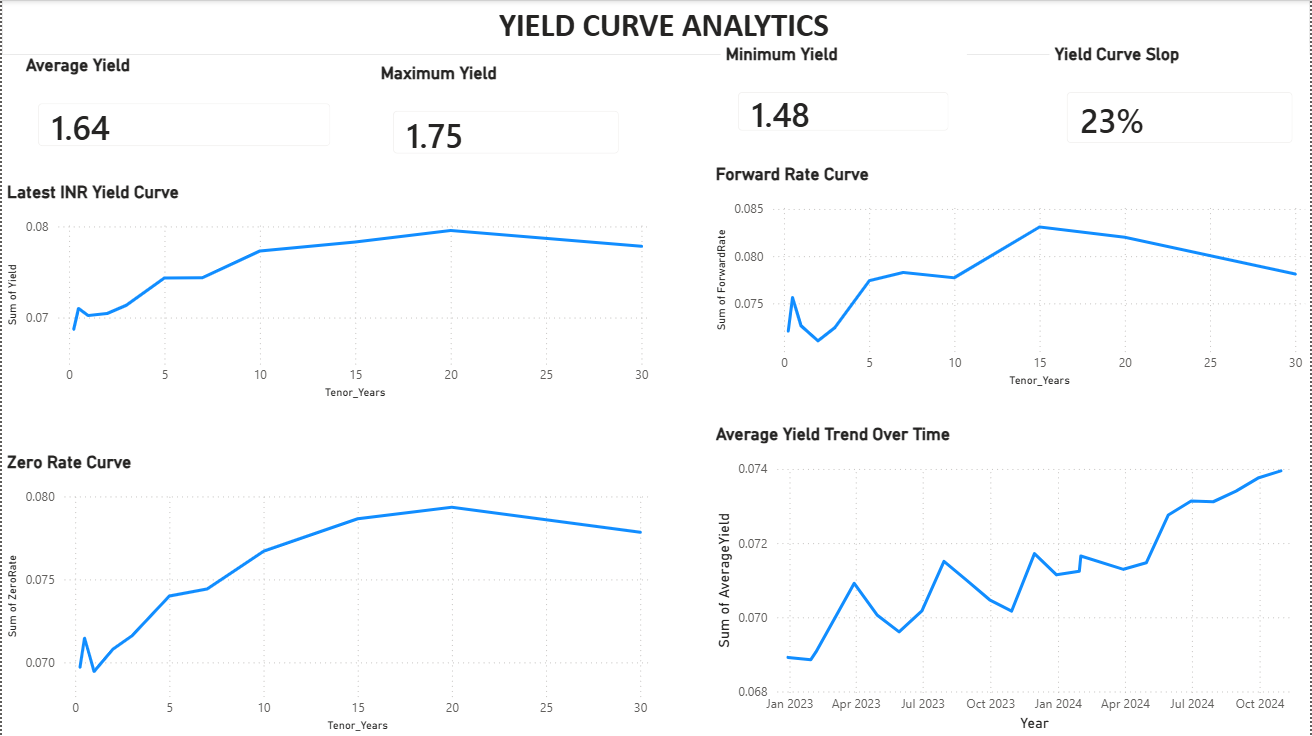

The page's visual inventory and layout, read from the dashboard file:
{"tool":"powerbi","page":{"name":"Yield Curve Analytics","canvas":[1280,720],"ordinal":3},"visuals":[{"type":"textbox","box":[0,0,1280.3,53.8],"z":0},{"type":"lineChart","title":"Latest INR Yield Curve","fields":{"Category":["latest_yield_curve.Tenor_Years"],"Y":["Sum(latest_yield_curve.Yield)"]},"box":[0,177.3,640.8,217.7],"z":1000},{"type":"lineChart","title":"Zero Rate Curve","fields":{"Category":["latest_yield_curve.Tenor_Years"],"Y":["Sum(latest_yield_curve.ZeroRate)"]},"box":[0,441.4,639.5,278.8],"z":2000},{"type":"lineChart","title":"Forward Rate Curve","fields":{"Category":["latest_yield_curve.Tenor_Years"],"Y":["Sum(latest_yield_curve.ForwardRate)"]},"box":[693.3,160.2,587,222.6],"z":3000},{"type":"cardVisual","title":"Average Yield","fields":{"Data":["Sum(yield_curve_summary.AverageYield)"]},"box":[18.3,53.8,320.4,106.4],"z":4000},{"type":"cardVisual","title":"Minimum Yield","fields":{"Data":["Sum(yield_curve_summary.MinYield)"]},"box":[703.1,42.8,240.9,102.7],"z":5000},{"type":"cardVisual","title":"Maximum Yield","fields":{"Data":["Sum(yield_curve_summary.MaxYield)"]},"box":[365.6,61.1,255.6,106.4],"z":6000},{"type":"cardVisual","title":"Yield Curve Slop","fields":{"Data":["Sum(yield_curve_summary.CurveSlope)"]},"box":[1024.7,42.8,255.6,114.9],"z":7000},{"type":"lineChart","title":"Average Yield Trend Over Time","fields":{"Category":["yield_curve_summary.CurveDate.Variation.Date Hierarchy.Year","yield_curve_summary.CurveDate.Variation.Date Hierarchy.Quarter","yield_curve_summary.CurveDate.Variation.Date Hierarchy.Month","yield_curve_summary.CurveDate.Variation.Date Hierarchy.Day"],"Y":["Sum(yield_curve_summary.AverageYield)"]},"box":[693.3,414.5,587,305.7],"z":8000}]}

Visuals, with their boxes in screenshot pixels (x1, y1, x2, y2), scaled from the page's 1280x720 canvas onto the 1312x736 screenshot:
textbox: bbox=(0, 0, 1311, 55)
"Latest INR Yield Curve" lineChart: bbox=(0, 181, 657, 404)
"Zero Rate Curve" lineChart: bbox=(0, 451, 655, 735)
"Forward Rate Curve" lineChart: bbox=(711, 164, 1311, 391)
"Average Yield" cardVisual: bbox=(19, 55, 347, 164)
"Minimum Yield" cardVisual: bbox=(721, 44, 968, 149)
"Maximum Yield" cardVisual: bbox=(375, 62, 637, 171)
"Yield Curve Slop" cardVisual: bbox=(1050, 44, 1311, 161)
"Average Yield Trend Over Time" lineChart: bbox=(711, 424, 1311, 735)
